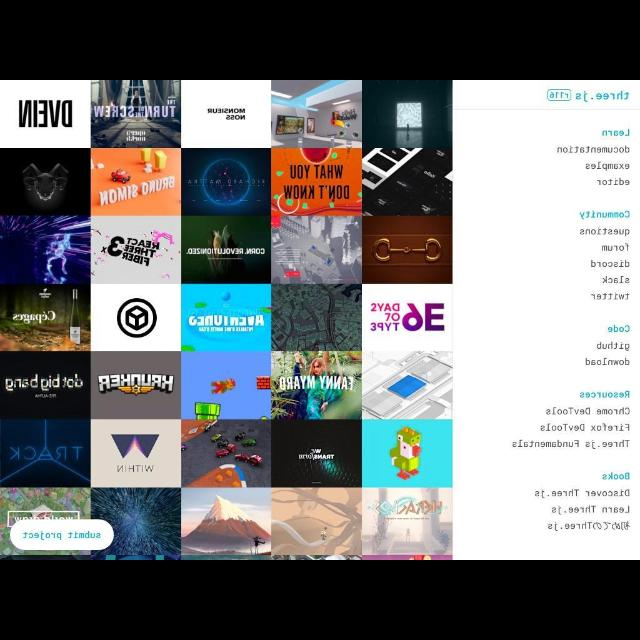backgroundimage: (1, 80, 451, 558)
image: (546, 86, 630, 108)
text: (510, 436, 630, 450), (538, 418, 630, 436), (534, 486, 632, 499), (543, 404, 629, 418), (546, 518, 630, 532), (550, 502, 632, 516), (556, 144, 630, 156), (578, 387, 632, 403), (580, 207, 630, 221), (575, 225, 631, 237), (20, 532, 102, 540), (590, 257, 630, 273), (590, 339, 632, 353), (590, 289, 630, 303), (583, 160, 631, 170), (594, 175, 630, 188), (600, 126, 632, 138), (598, 242, 630, 254), (600, 276, 632, 288), (582, 358, 630, 366), (599, 470, 631, 482), (607, 321, 631, 335)
textbutton: (8, 520, 114, 550)
